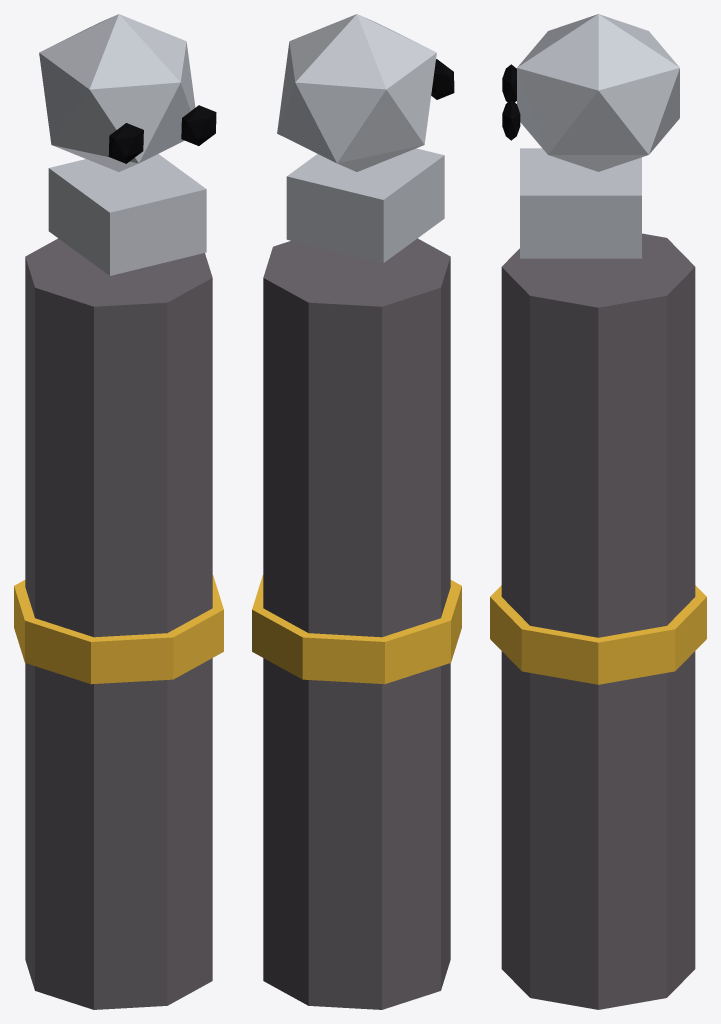
File: Prop_OR_SkullTotem_02.glb
3 renders of one model, left to right at view 1: azimuth 30°, elevation 25°; view 2: azimuth 150°, elevation 25°; view 3: azimuth 270°, elevation 25°, orthographic.
Parts seen in each view (by area): view 1: Prop_OR_SkullTotem_02; view 2: Prop_OR_SkullTotem_02; view 3: Prop_OR_SkullTotem_02.
Part boxes in pixels (<box>): Prop_OR_SkullTotem_02: <box>14,14,223,1009</box>; Prop_OR_SkullTotem_02: <box>252,14,461,1009</box>; Prop_OR_SkullTotem_02: <box>490,14,706,1009</box>.
Size of the model in its own units: 0.56 by 2.72 by 0.56.
